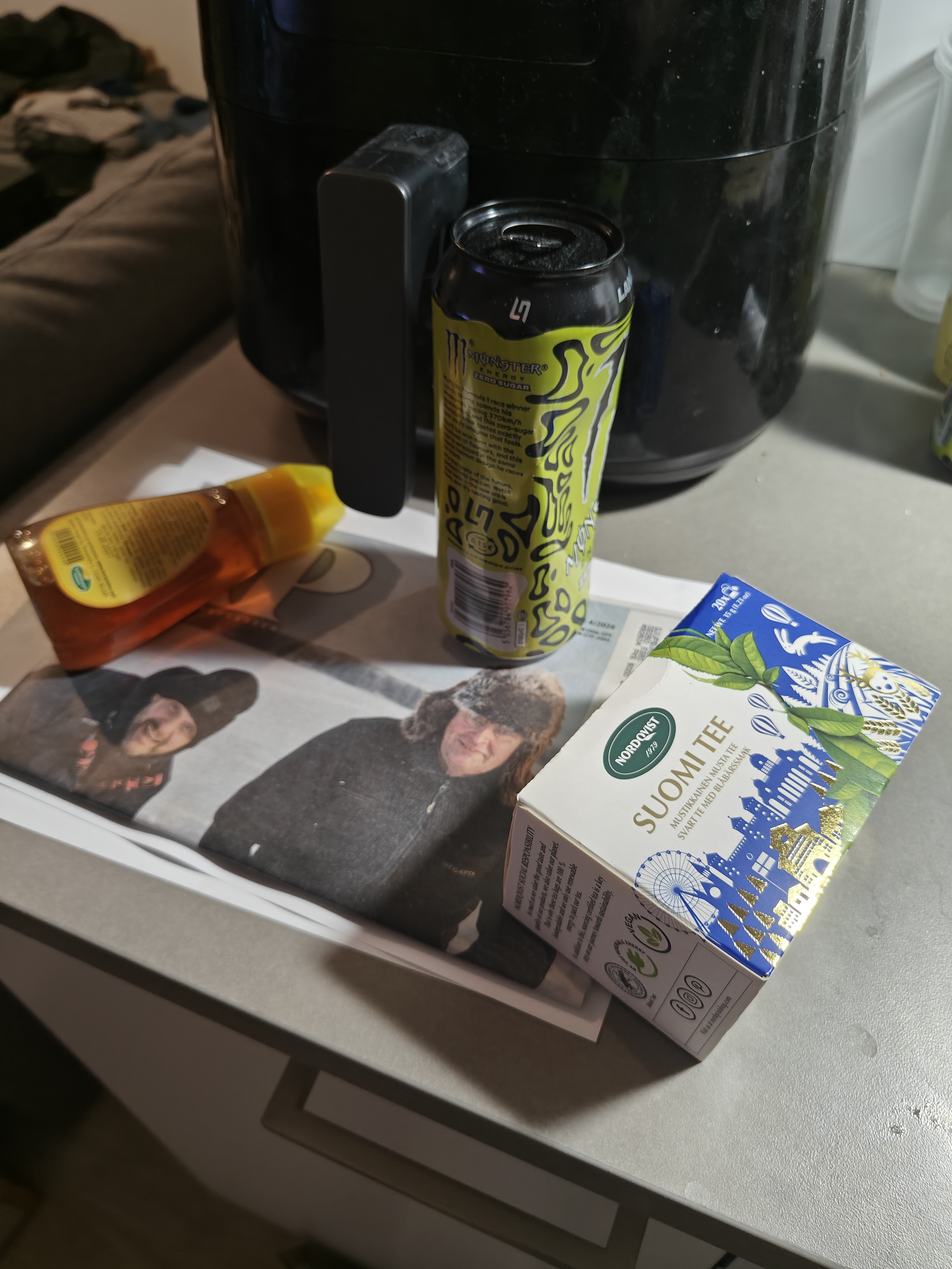Pantburk: (430, 200, 636, 667)
